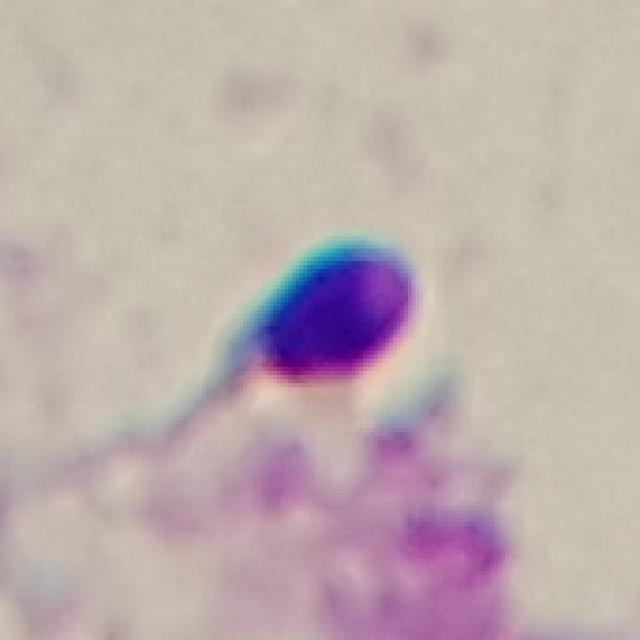normal sperm: (164, 238, 423, 442)
